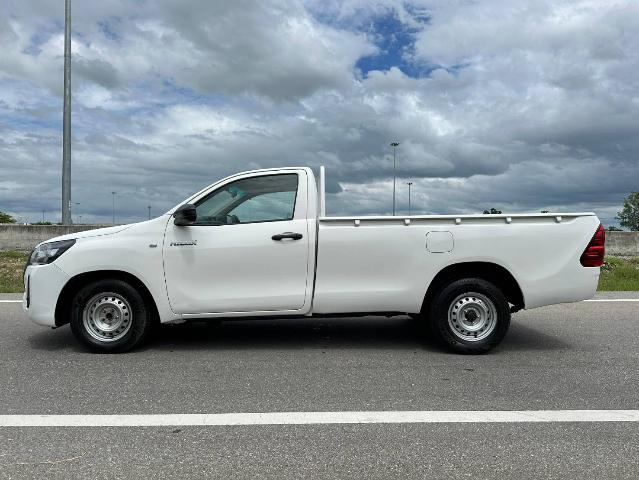pickup-truck: (15, 157, 617, 371)
